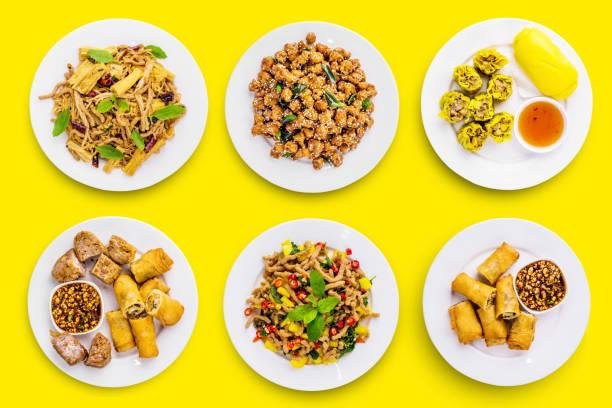Braised Crucian Carp: (32, 17, 209, 193), (418, 16, 591, 192), (223, 219, 395, 393), (224, 20, 396, 193), (26, 217, 195, 391), (420, 217, 590, 389), (49, 329, 113, 368)
